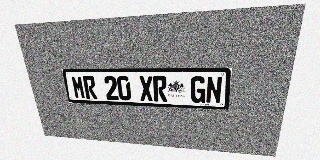0: (116, 76, 131, 101)
2: (104, 76, 119, 100)
G: (190, 76, 206, 103)
M: (71, 76, 86, 99)
N: (206, 76, 223, 104)
R: (82, 76, 98, 99), (153, 76, 167, 102)
X: (139, 76, 153, 101)
